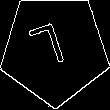L_S: (33, 20, 77, 79)
